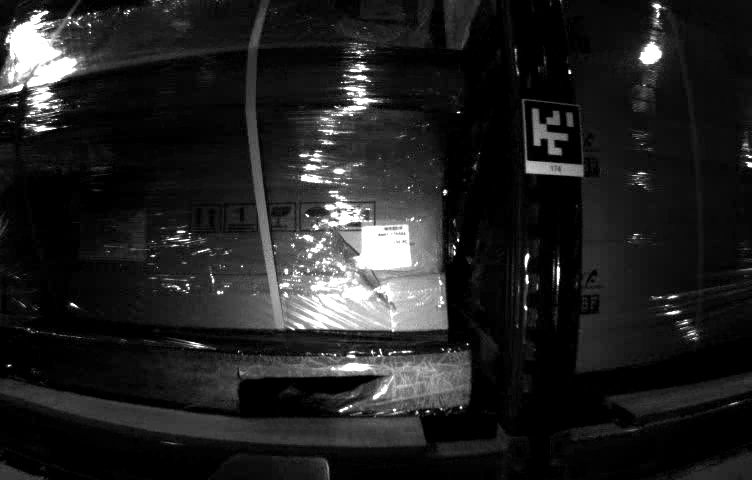True Barcode: (359, 223, 413, 270)
